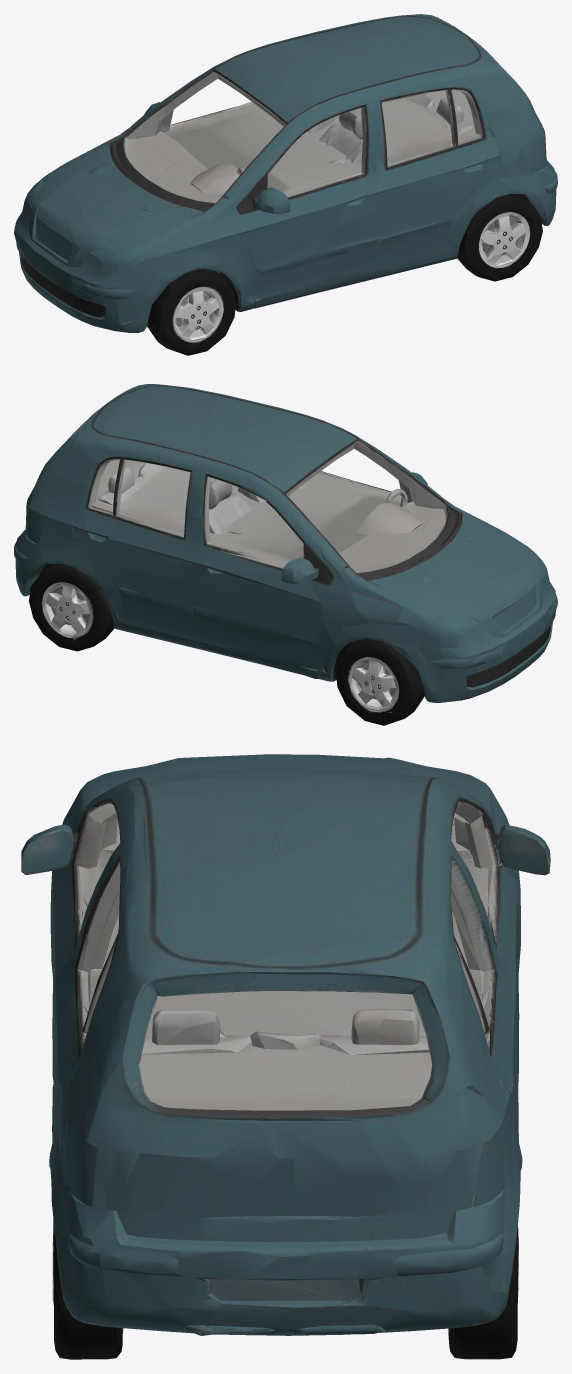
The model's file is stadtwagen.glb.
3 renders of one model, top to bottom at view 1: azimuth 30°, elevation 25°; view 2: azimuth 150°, elevation 25°; view 3: azimuth 270°, elevation 25°, orthographic. The views are drawn at different scales.
Parts seen in each view (by area): view 1: mesh_node; view 2: mesh_node; view 3: mesh_node.
Part boxes in pixels (x1,y1,x2,y2): mesh_node: (14, 14, 557, 355); mesh_node: (14, 384, 557, 725); mesh_node: (21, 754, 550, 1359).
Bounding box in the file's own units: 1.9 × 0.7894 × 0.915.
1 material, 1 textured.
